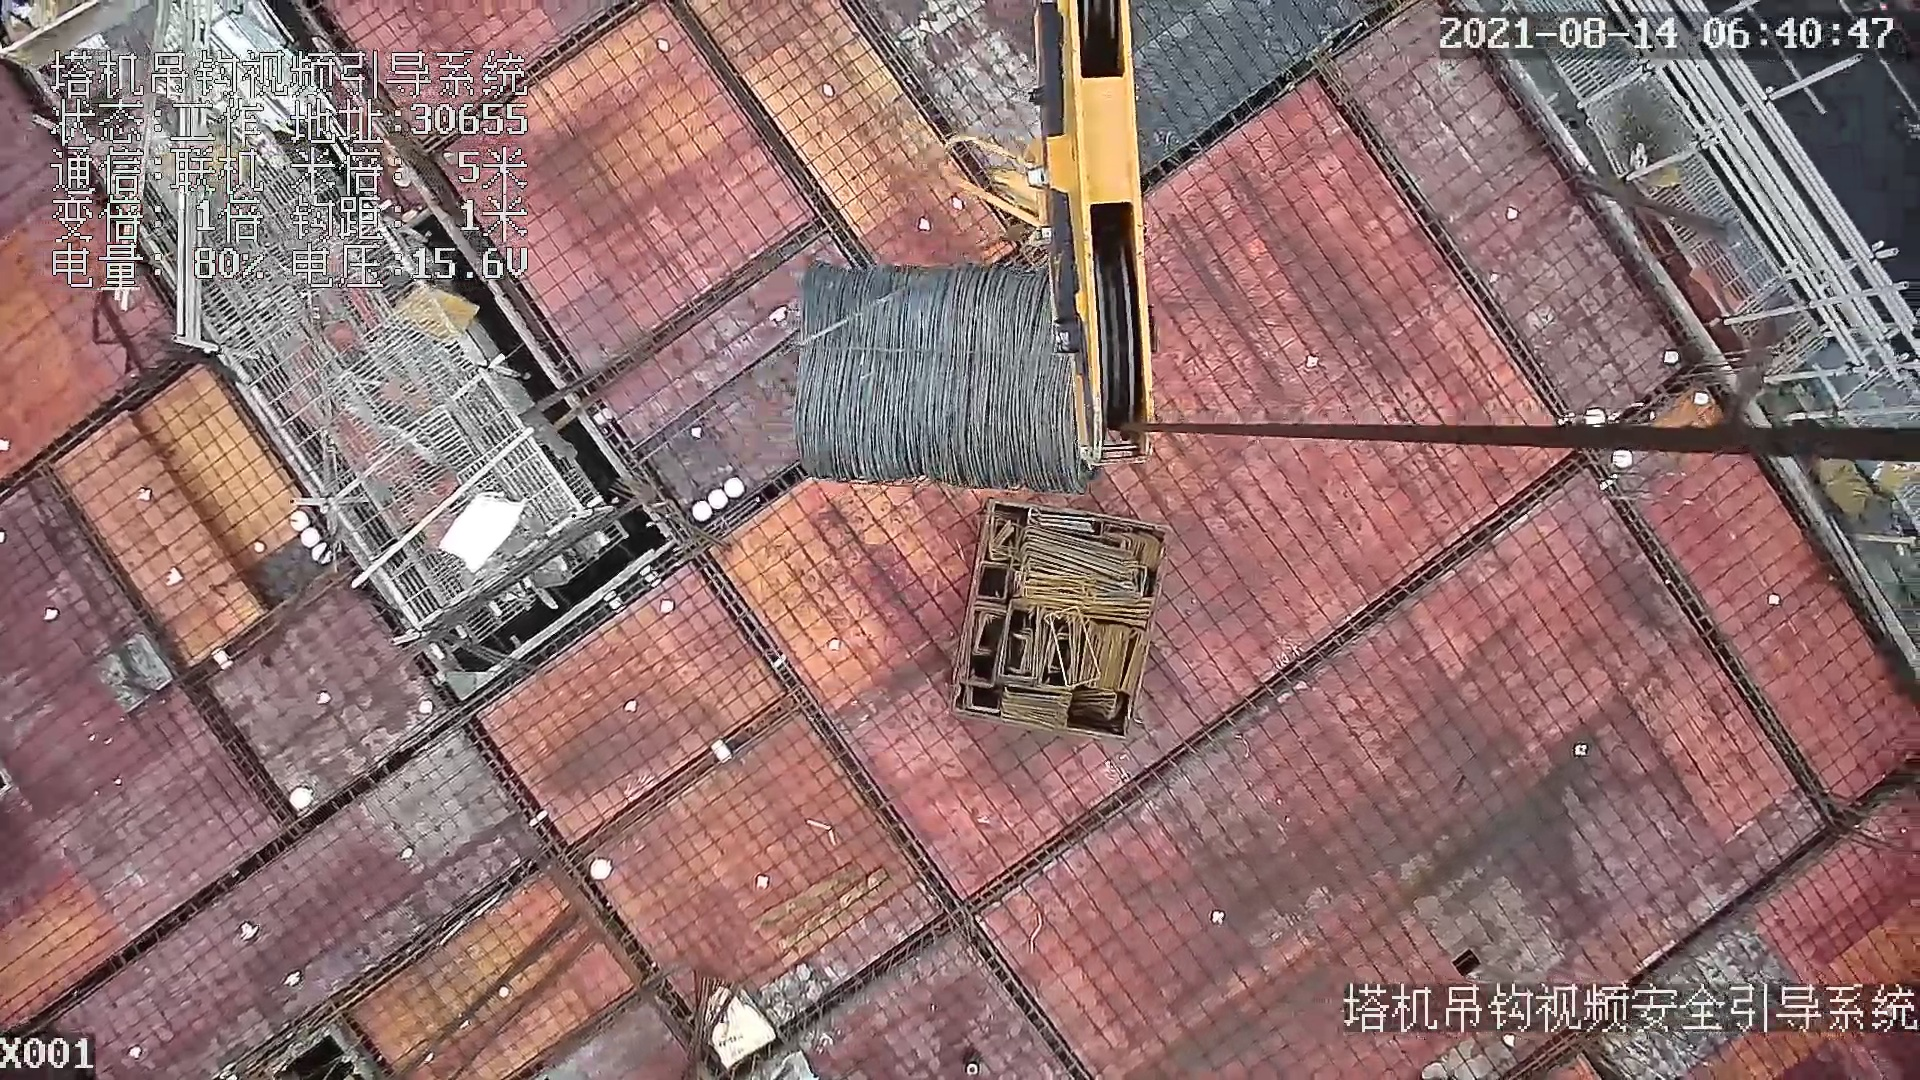hook: (938, 1, 1163, 463)
